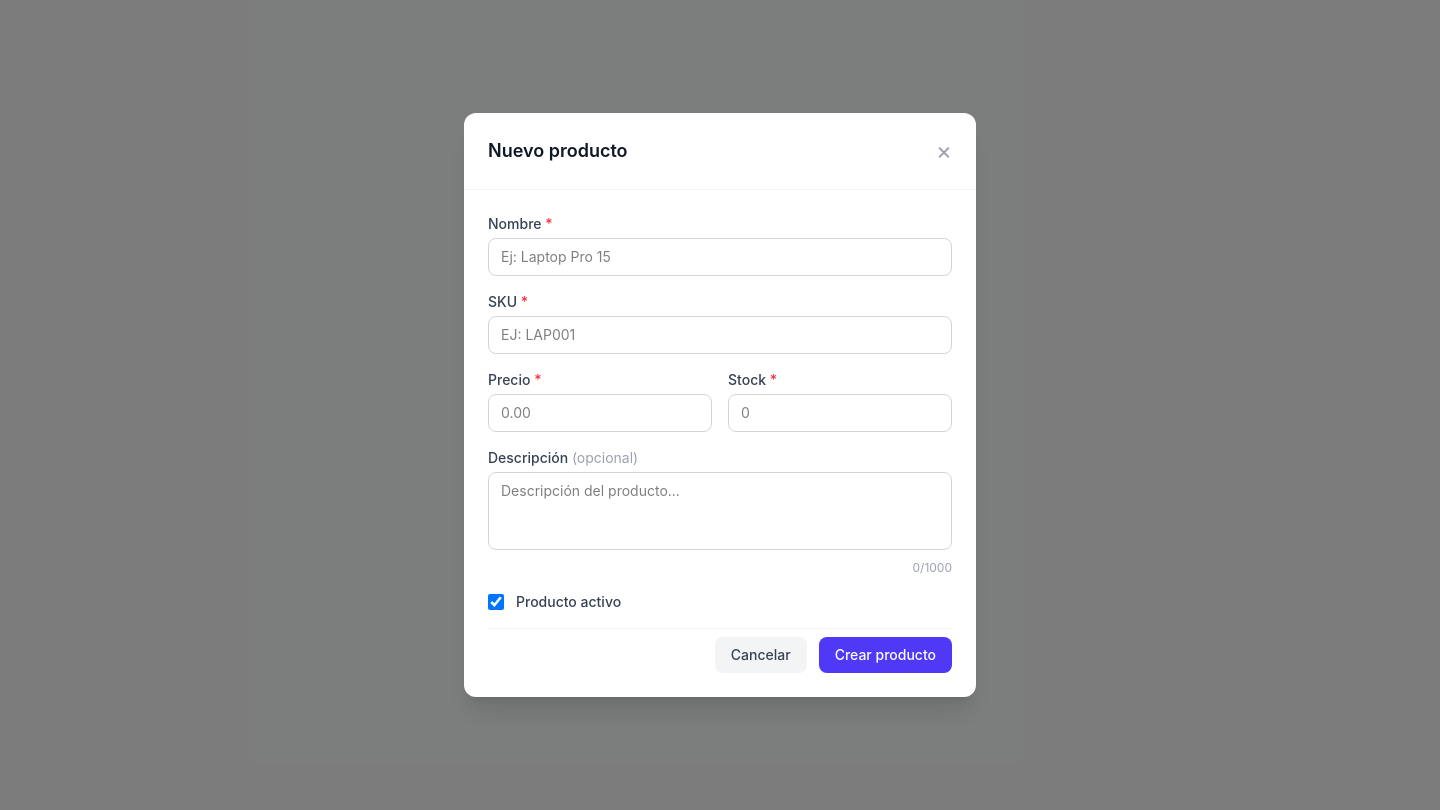
Test: ProductForm › validation › shows error when SKU has invalid characters
This screenshot has width=1440, height=810.
In the field with placeholder "Ej: LAP001": (720, 335) top-left (488, 316), bottom-right (952, 354), type "invalid-sku"
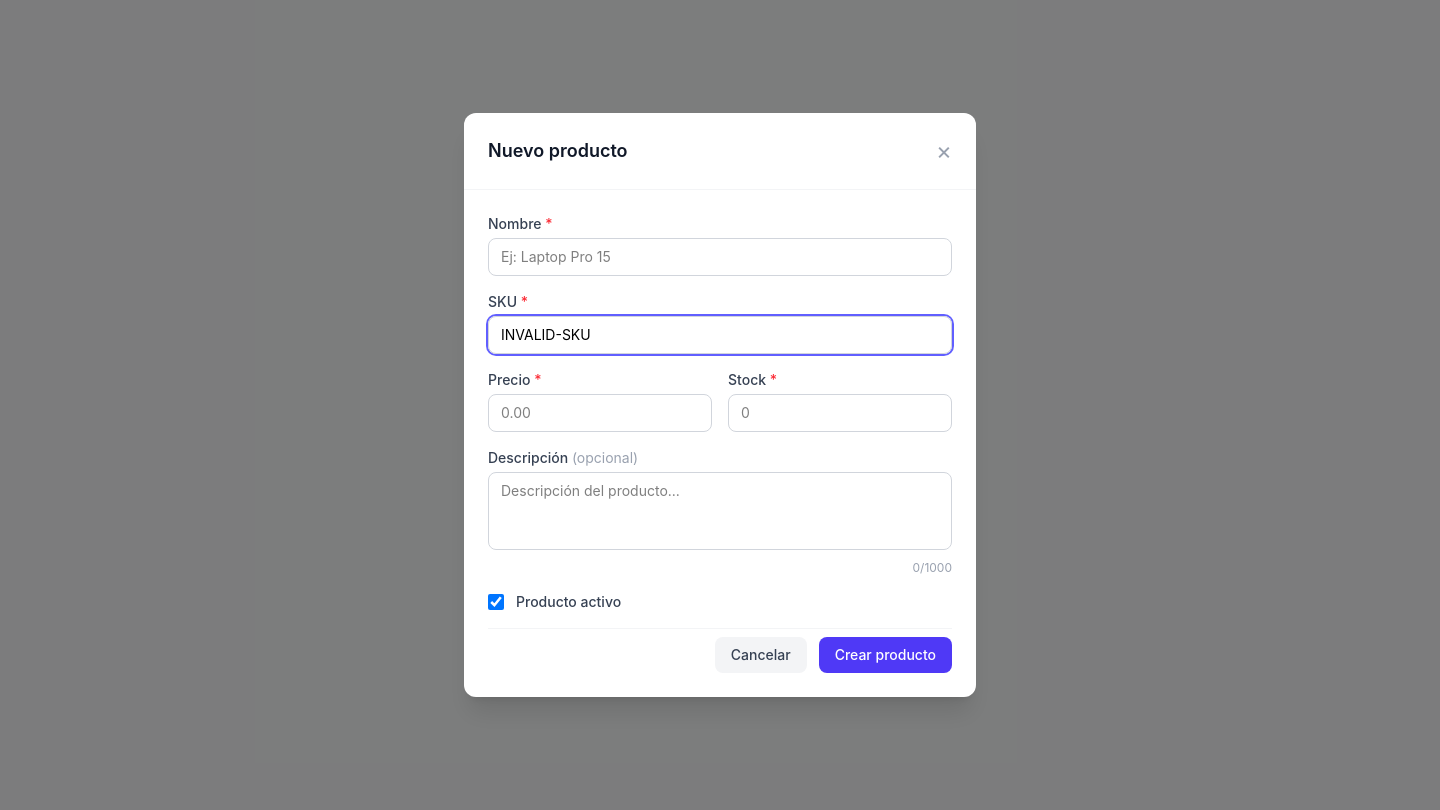
Click the button "Crear producto": click(885, 655) top-left (819, 637), bottom-right (952, 673)
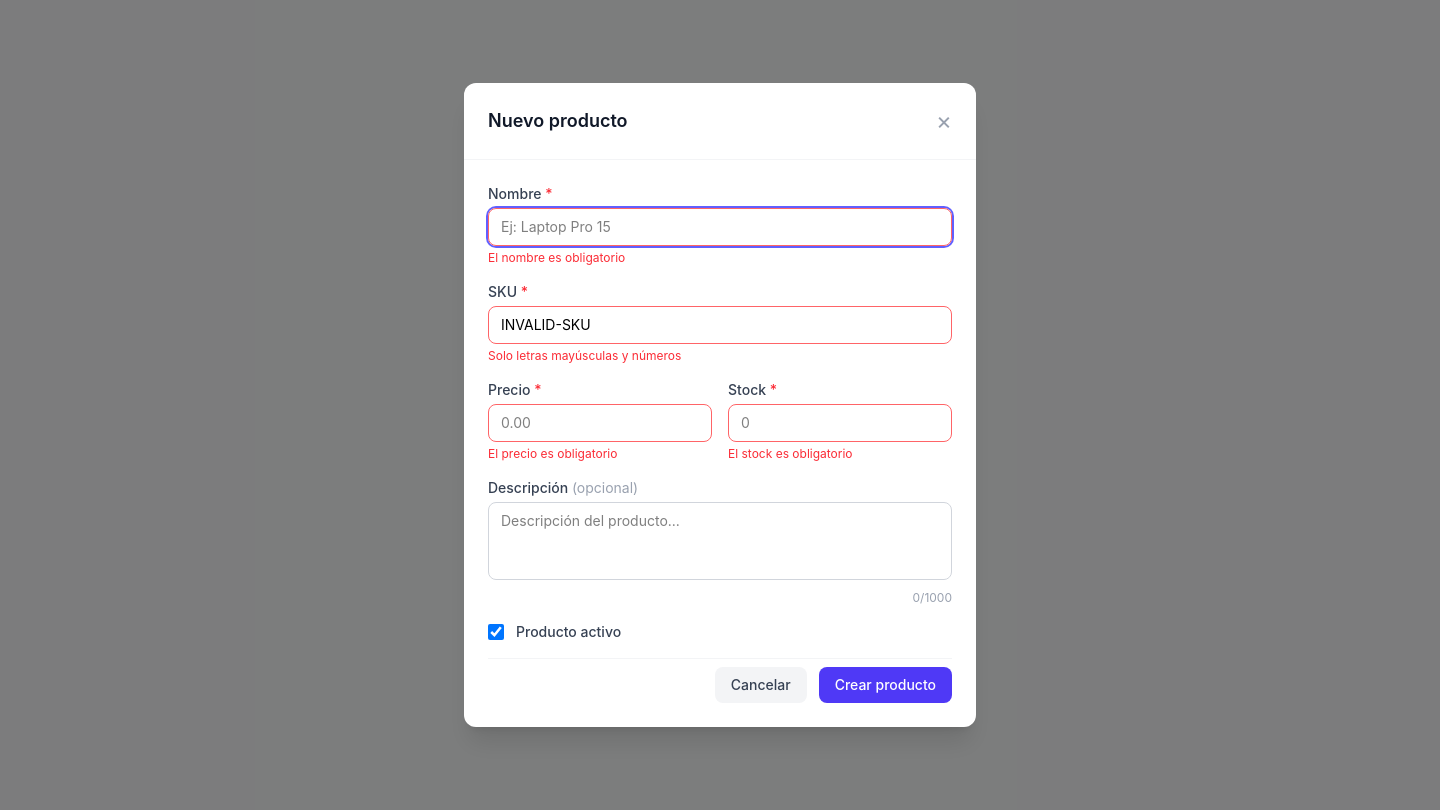
Expected: the text "Solo letras mayúsculas y números" is shown, top-left (488, 348), bottom-right (681, 363)
